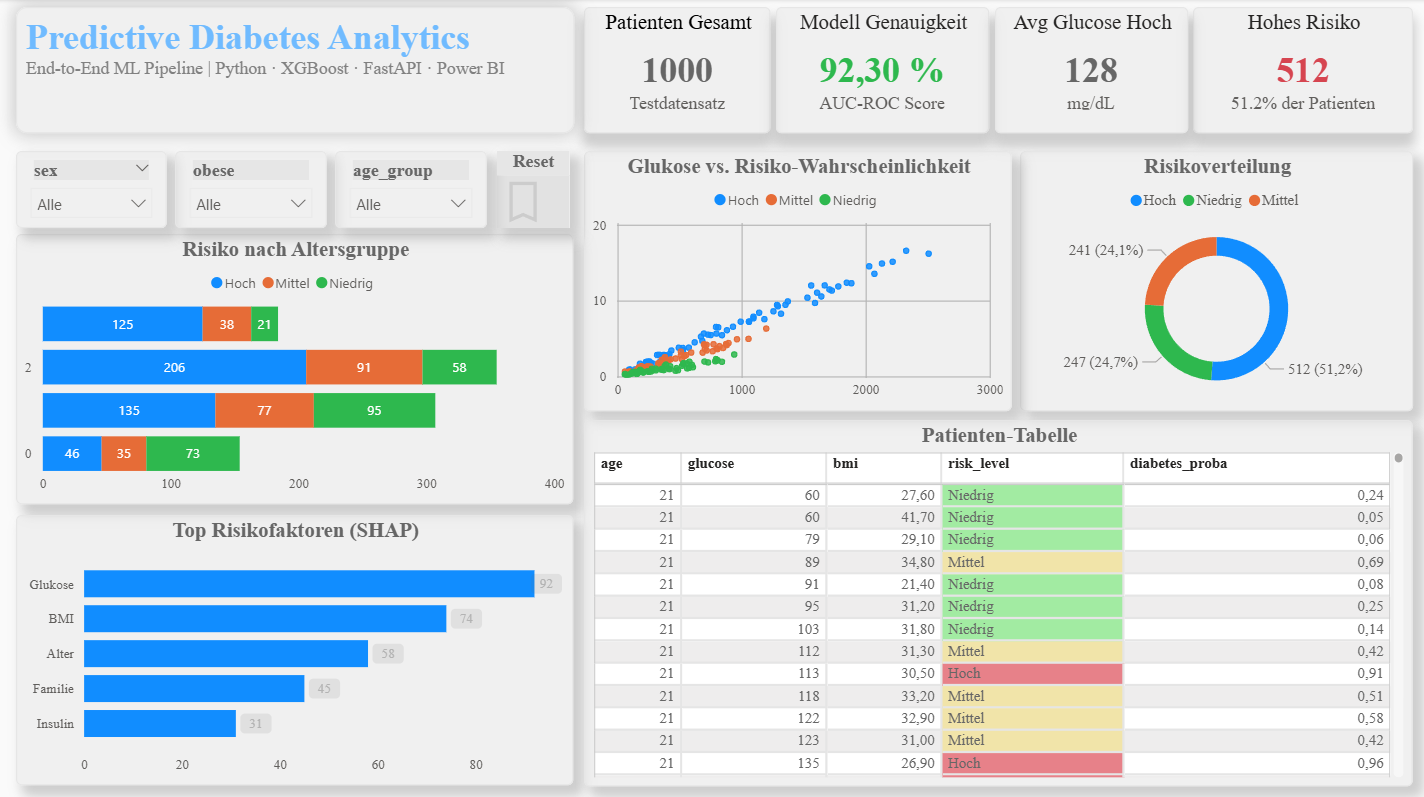

This screenshot's page, from the dashboard's own definition file:
{"tool":"powerbi","page":{"name":"Diabetes-Risiko-Analyse","canvas":[1280,720],"ordinal":0},"visuals":[{"type":"cardVisual","title":"Patienten Gesamt","fields":{"Data":["_Measures.Patienten Gesamt"]},"box":[524.2,6.8,167.3,106],"z":0},{"type":"textbox","box":[15.5,6.8,499,106],"z":1},{"type":"cardVisual","title":"Hohes Risiko","fields":{"Data":["_Measures.Hohes Risiko"]},"box":[1075.7,6.8,190.6,106],"z":2},{"type":"cardVisual","title":"Modell Genauigkeit","fields":{"Data":["_Measures.Modell Genauigkeit"]},"box":[699.3,6.8,190.6,106],"z":3},{"type":"cardVisual","title":"Avg Glucose Hoch","fields":{"Data":["_Measures.Avg Glukose Hoch"]},"box":[897.7,6.8,172.2,106],"z":4},{"type":"barChart","title":"Risiko nach Altersgruppe","fields":{"Category":["predictions_for_powerbi.age_group"],"Series":["predictions_for_powerbi.risk_level"],"Y":["_Measures.Patienten Gesamt"]},"box":[15.5,126.4,499,242.2],"z":5},{"type":"donutChart","title":"Risikoverteilung","fields":{"Category":["predictions_for_powerbi.risk_level"],"Y":["_Measures.Patienten Gesamt"]},"box":[914.3,126.4,352.1,242.2],"z":6},{"type":"scatterChart","title":"Glukose vs. Risiko-Wahrscheinlichkeit","fields":{"X":["Sum(predictions_for_powerbi.glucose)"],"Y":["Sum(predictions_for_powerbi.diabetes_proba)"],"Series":["predictions_for_powerbi.risk_level"],"Category":["predictions_for_powerbi.age"]},"box":[524.2,126.4,383.2,242.2],"z":7},{"type":"clusteredBarChart","title":"Top Risikofaktoren (SHAP)","fields":{"Category":["shap_importance.Feature"],"Y":["Sum(shap_importance.SHAP_Wert)"]},"box":[15.6,377.4,499,242.2],"z":8},{"type":"tableEx","title":"Patienten-Tabelle","fields":{"Values":["predictions_for_powerbi.age","predictions_for_powerbi.glucose","predictions_for_powerbi.bmi","predictions_for_powerbi.risk_level","predictions_for_powerbi.diabetes_proba"]},"box":[524.3,377.4,742.1,327.8],"z":9},{"type":"slicer","fields":{"Values":["predictions_for_powerbi.sex"]},"box":[15.6,627.4,136.2,77.8],"z":10},{"type":"slicer","fields":{"Values":["predictions_for_powerbi.obese"]},"box":[159.5,627.4,136.2,77.8],"z":11},{"type":"slicer","fields":{"Values":["predictions_for_powerbi.age_group"]},"box":[302.5,627.4,136.2,77.8],"z":12},{"type":"actionButton","box":[448.8,627,65.4,77.8],"z":13}]}

Visuals, with their boxes in screenshot pixels (x1, y1, x2, y2), scaled from the page's 1280x720 canvas onto the 1424x797 screenshot:
"Patienten Gesamt" cardVisual: {"x1": 583, "y1": 8, "x2": 769, "y2": 125}
textbox: {"x1": 17, "y1": 8, "x2": 572, "y2": 125}
"Hohes Risiko" cardVisual: {"x1": 1197, "y1": 8, "x2": 1409, "y2": 125}
"Modell Genauigkeit" cardVisual: {"x1": 778, "y1": 8, "x2": 990, "y2": 125}
"Avg Glucose Hoch" cardVisual: {"x1": 999, "y1": 8, "x2": 1190, "y2": 125}
"Risiko nach Altersgruppe" barChart: {"x1": 17, "y1": 140, "x2": 572, "y2": 408}
"Risikoverteilung" donutChart: {"x1": 1017, "y1": 140, "x2": 1409, "y2": 408}
"Glukose vs. Risiko-Wahrscheinlichkeit" scatterChart: {"x1": 583, "y1": 140, "x2": 1009, "y2": 408}
"Top Risikofaktoren (SHAP)" clusteredBarChart: {"x1": 17, "y1": 418, "x2": 572, "y2": 686}
"Patienten-Tabelle" tableEx: {"x1": 583, "y1": 418, "x2": 1409, "y2": 781}
slicer - predictions_for_powerbi.sex: {"x1": 17, "y1": 694, "x2": 169, "y2": 781}
slicer - predictions_for_powerbi.obese: {"x1": 177, "y1": 694, "x2": 329, "y2": 781}
slicer - predictions_for_powerbi.age_group: {"x1": 337, "y1": 694, "x2": 488, "y2": 781}
actionButton: {"x1": 499, "y1": 694, "x2": 572, "y2": 780}
